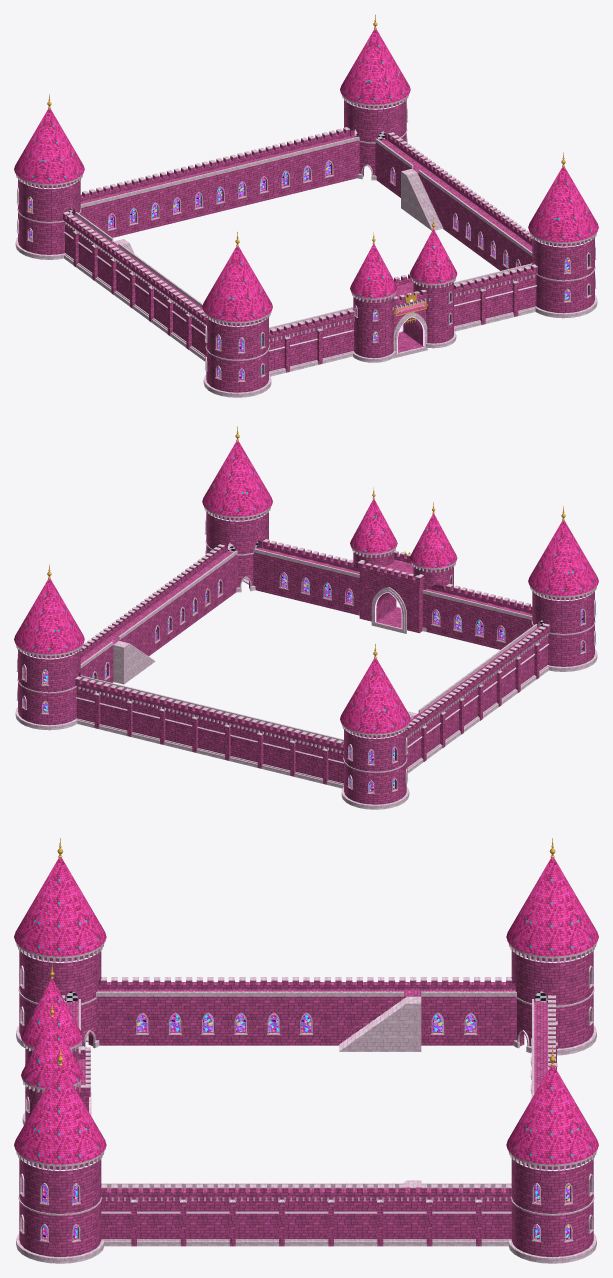
Rendered from citadel_walls.glb.
3 renders of one model, top to bottom at view 1: azimuth 30°, elevation 25°; view 2: azimuth 150°, elevation 25°; view 3: azimuth 270°, elevation 25°, orthographic. The views are drawn at different scales.
Visible parts, largest first — view 1: walls_stone, walls_trim, walls_roof, walls_glass, walls_neon; view 2: walls_stone, walls_trim, walls_roof, walls_glass, walls_neon; view 3: walls_stone, walls_roof, walls_trim, walls_glass, walls_neon.
Part boxes in pixels (box(x1,y1,x2,y2)): walls_stone: box(18, 100, 594, 392); walls_trim: box(15, 94, 597, 397); walls_roof: box(14, 29, 598, 321); walls_glass: box(29, 161, 587, 379); walls_neon: box(19, 100, 591, 353); walls_stone: box(18, 512, 594, 804); walls_trim: box(15, 506, 597, 809); walls_roof: box(14, 441, 598, 733); walls_glass: box(25, 573, 583, 791); walls_neon: box(21, 512, 593, 763); walls_stone: box(19, 949, 593, 1257); walls_roof: box(14, 857, 598, 1164); walls_trim: box(16, 943, 596, 1263); walls_glass: box(43, 1014, 569, 1238); walls_neon: box(22, 952, 590, 1213).
Bounding box in the file's own units: 143 × 54.64 × 143.
Materials: 9 (7 with a texture image).
